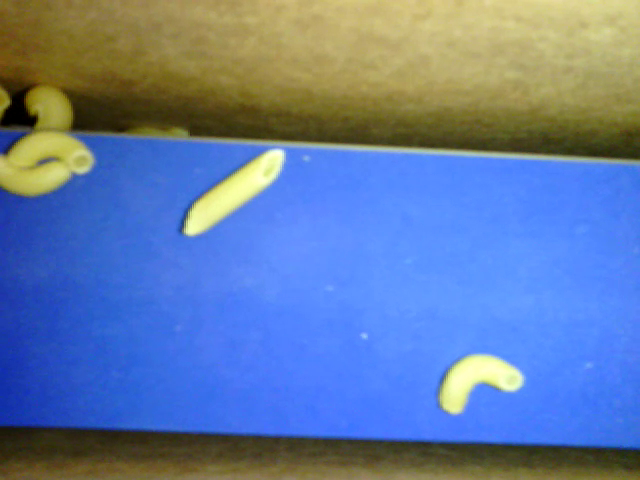elbow: (437, 350, 524, 418), (1, 148, 77, 199), (6, 131, 94, 173)
penne: (183, 146, 291, 239)
shell: (25, 80, 79, 134)
